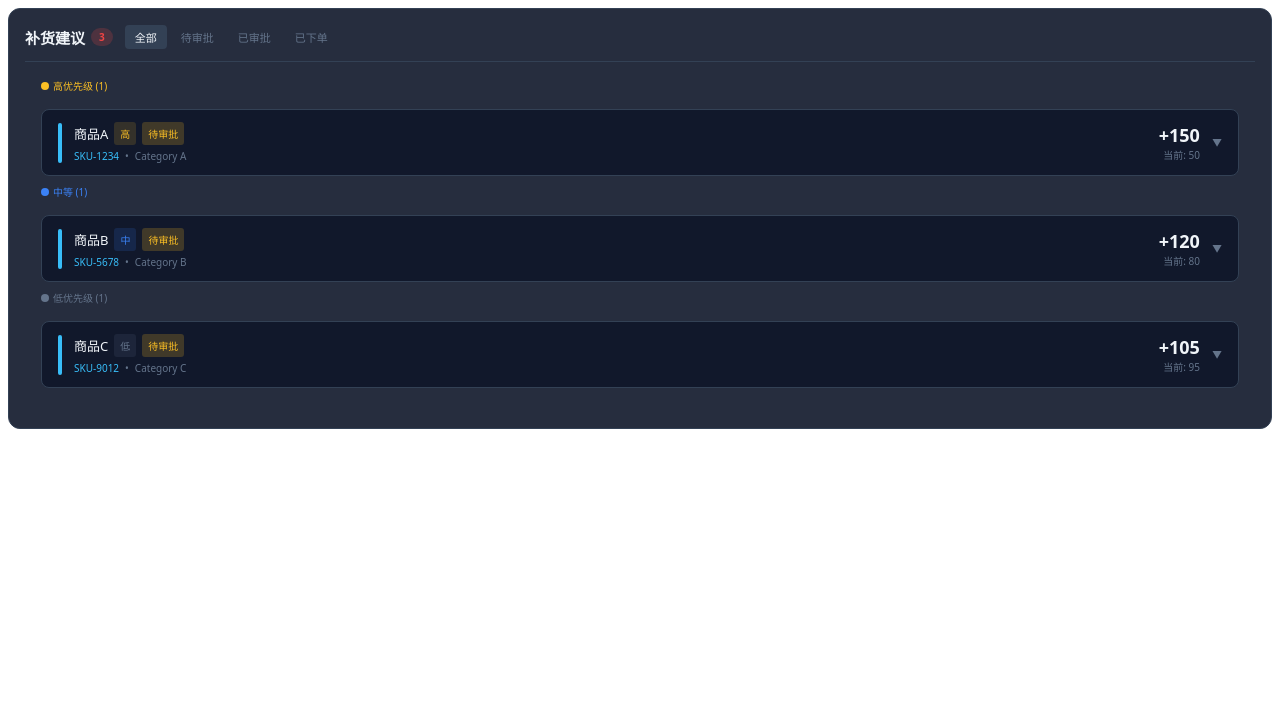
Alert Flow Tests - End-to-End › RestockSuggestions - Automated Restock Recommendations › should display confidence in expanded details
Click the button "商品A 高 待审批 SKU-1234•Category A +150 当前: 50 ▼" at (91, 134), box [41,109,1239,176]
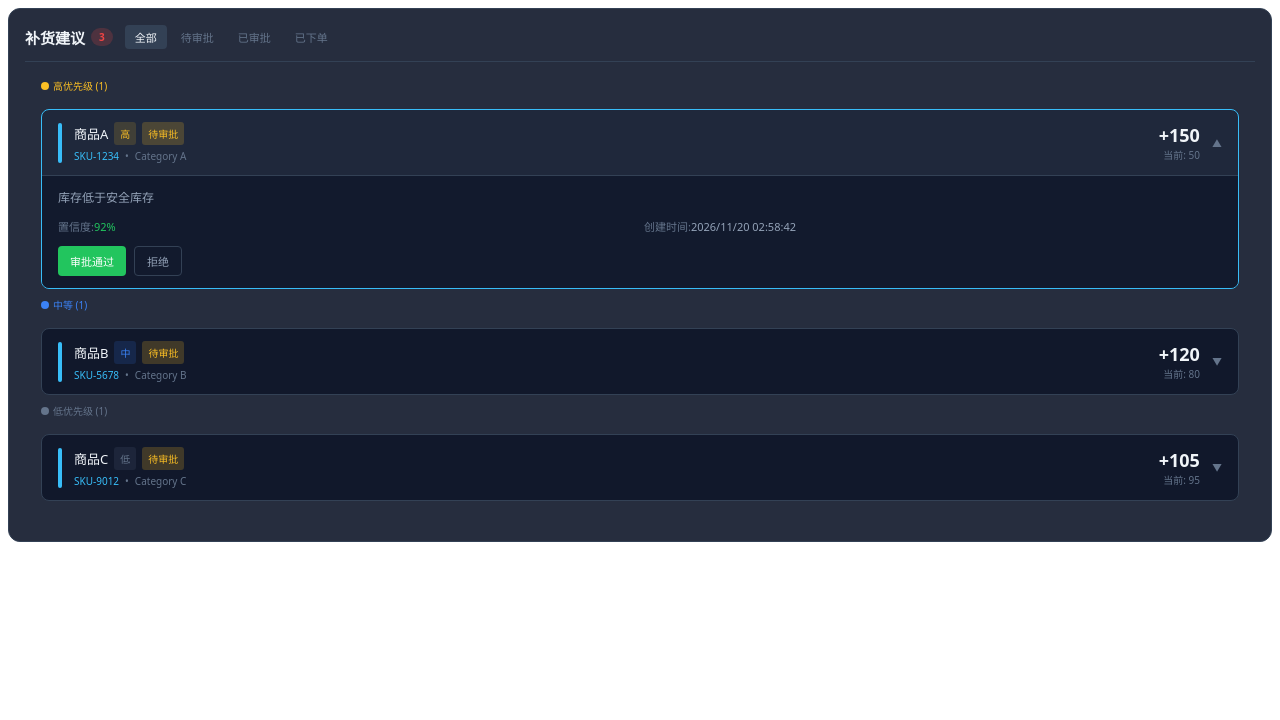
Expected: the text "置信度:" is shown, [58,219,94,234]
Expected: the text "92%" is shown, [94,219,116,234]
